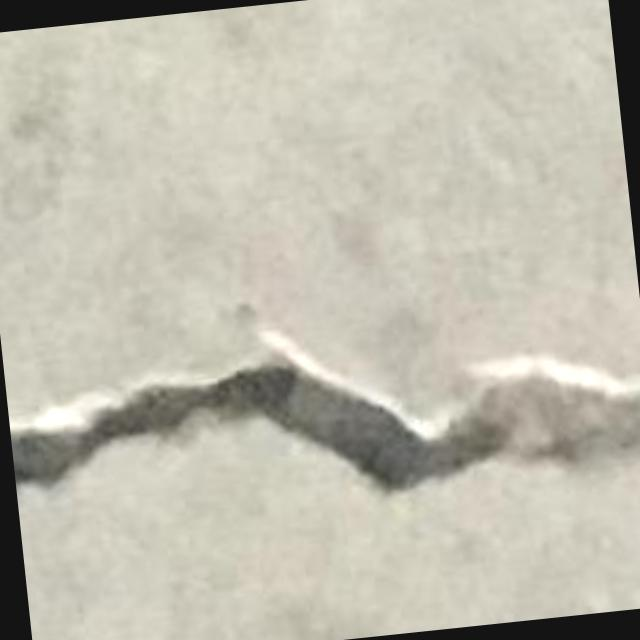crack: (10, 330, 639, 493)
